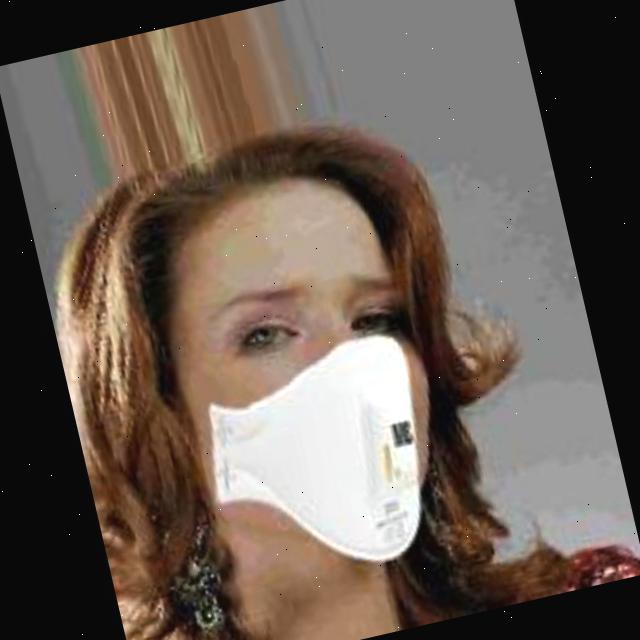suspicion: (79, 144, 465, 596)
